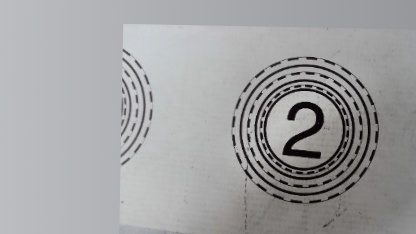2r: (228, 52, 381, 207)
